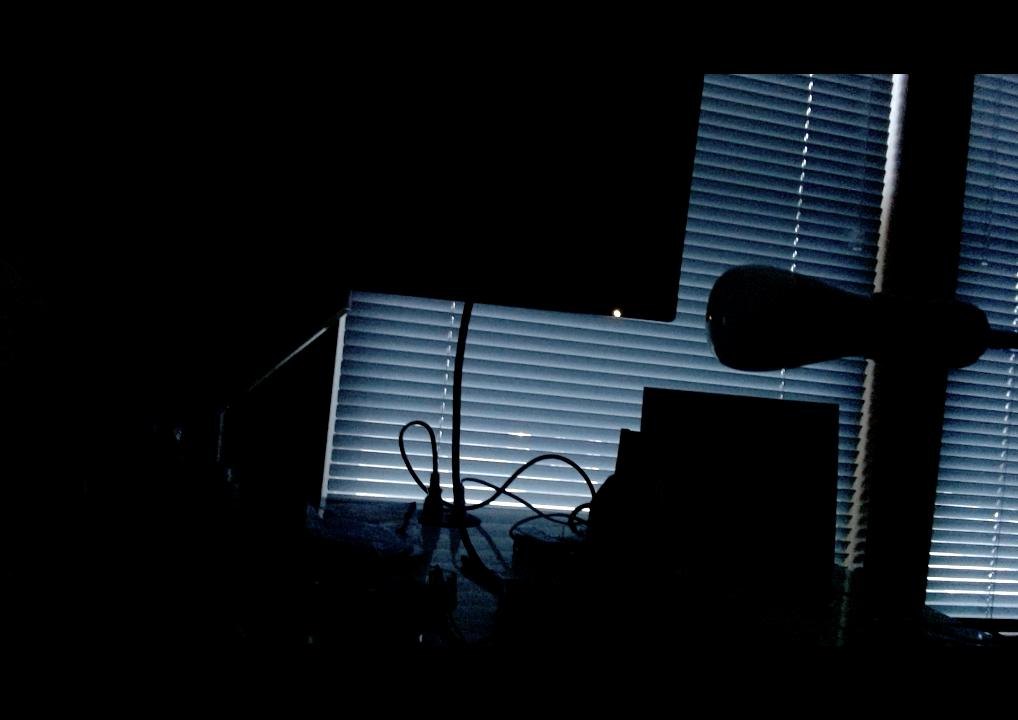TubeLight: (705, 264, 870, 372)
